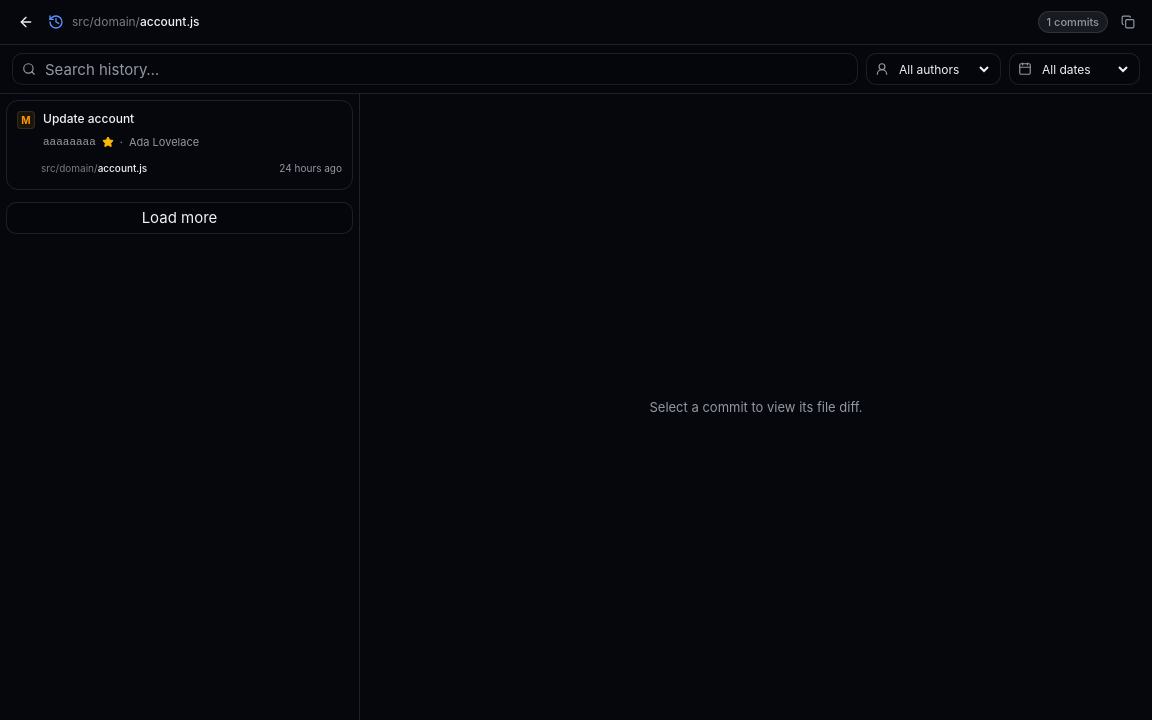
FileHistory › loads the next page without replacing the existing entries
The image size is (1152, 720).
Expected: the text "Update account" is shown, [43,111,134,126]
Click the button "Load more". click: (180, 218)
box: [6,202,353,234]
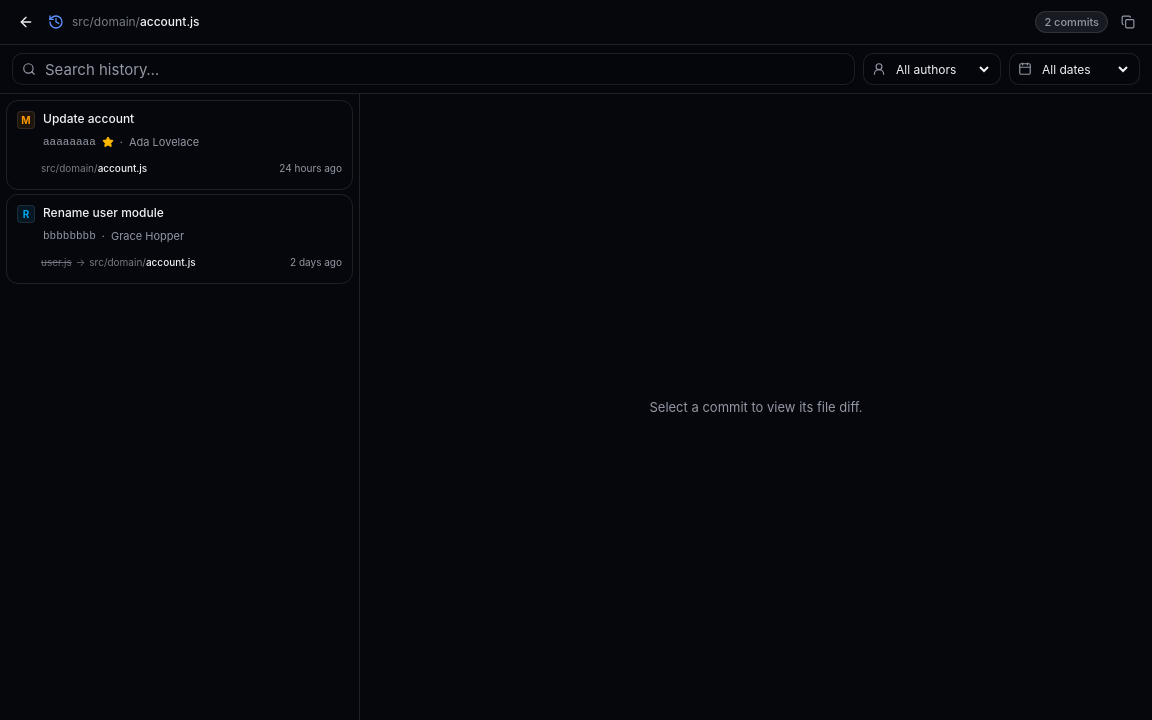
Expected: the text "Update account" is shown, [43,111,134,126]
Expected: the text "Rename user module" is shown, [43,205,164,220]
